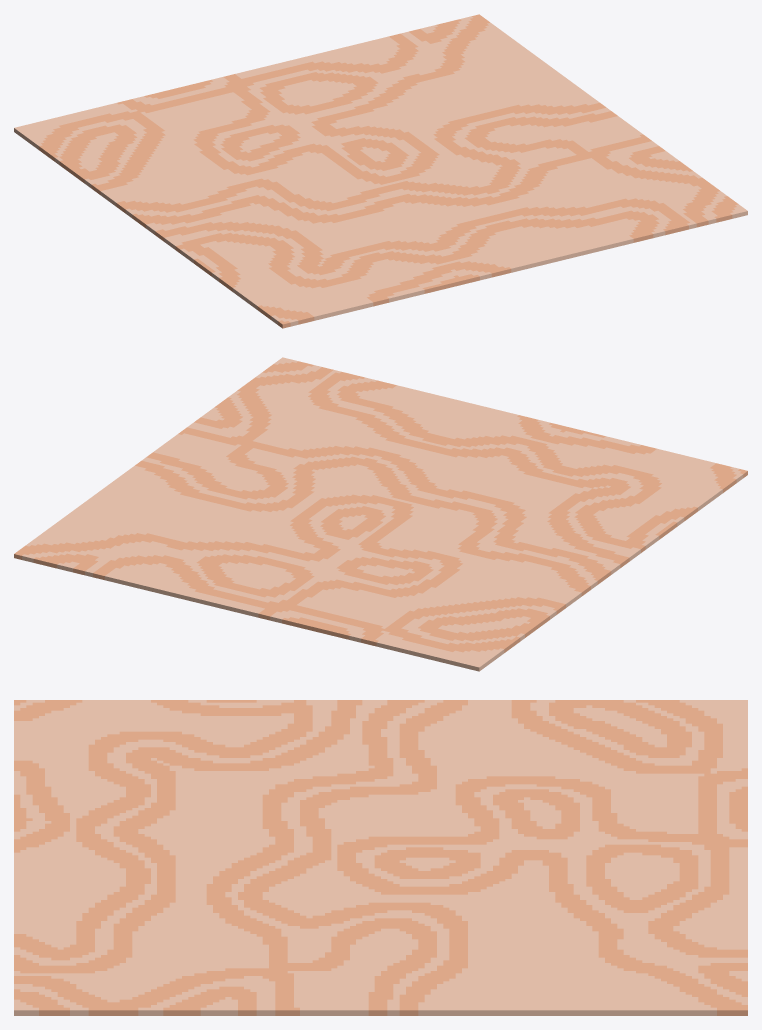
The model's file is wavycarpet.obj.
3 renders of one model, top to bottom at view 1: azimuth 30°, elevation 25°; view 2: azimuth 150°, elevation 25°; view 3: azimuth 270°, elevation 25°, orthographic. The views are drawn at different scales.
Visible parts, largest first — view 1: wavycarpet; view 2: wavycarpet; view 3: wavycarpet.
Part boxes in pixels (x1,y1,x2,y2): wavycarpet: (14,14,747,328); wavycarpet: (14,357,747,671); wavycarpet: (14,700,747,1015).
Size of the model in its own units: 118 by 1 by 118.
1 material, 1 textured.
